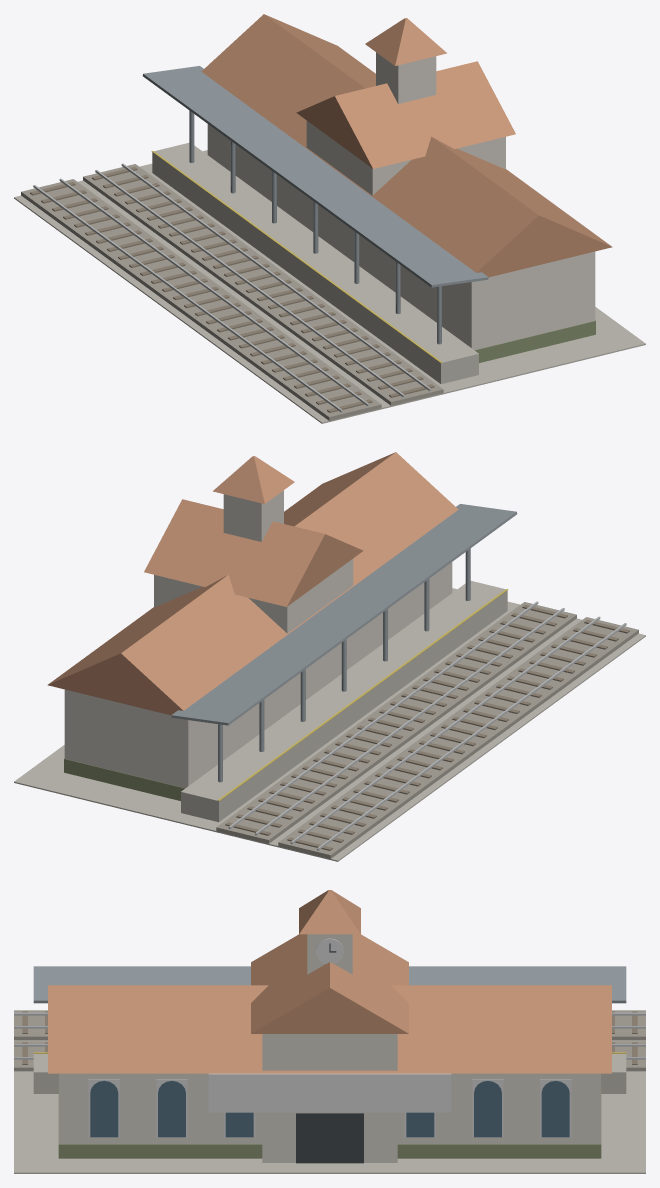
Rendered from lm_stasiun.glb.
3 views of the same model, one above another, from view 1: azimuth 30°, elevation 25°; view 2: azimuth 150°, elevation 25°; view 3: azimuth 270°, elevation 25° (orthographic). The views are drawn at different scales.
Parts seen in each view (by area): view 1: main; view 2: main; view 3: main.
Boxes of the visible parts, x1,y1,x2,y2 form: main: [14, 14, 645, 423]; main: [14, 452, 645, 861]; main: [14, 890, 645, 1173].
Bounding box in the file's own units: 13.6 × 9.4 × 22.4.
